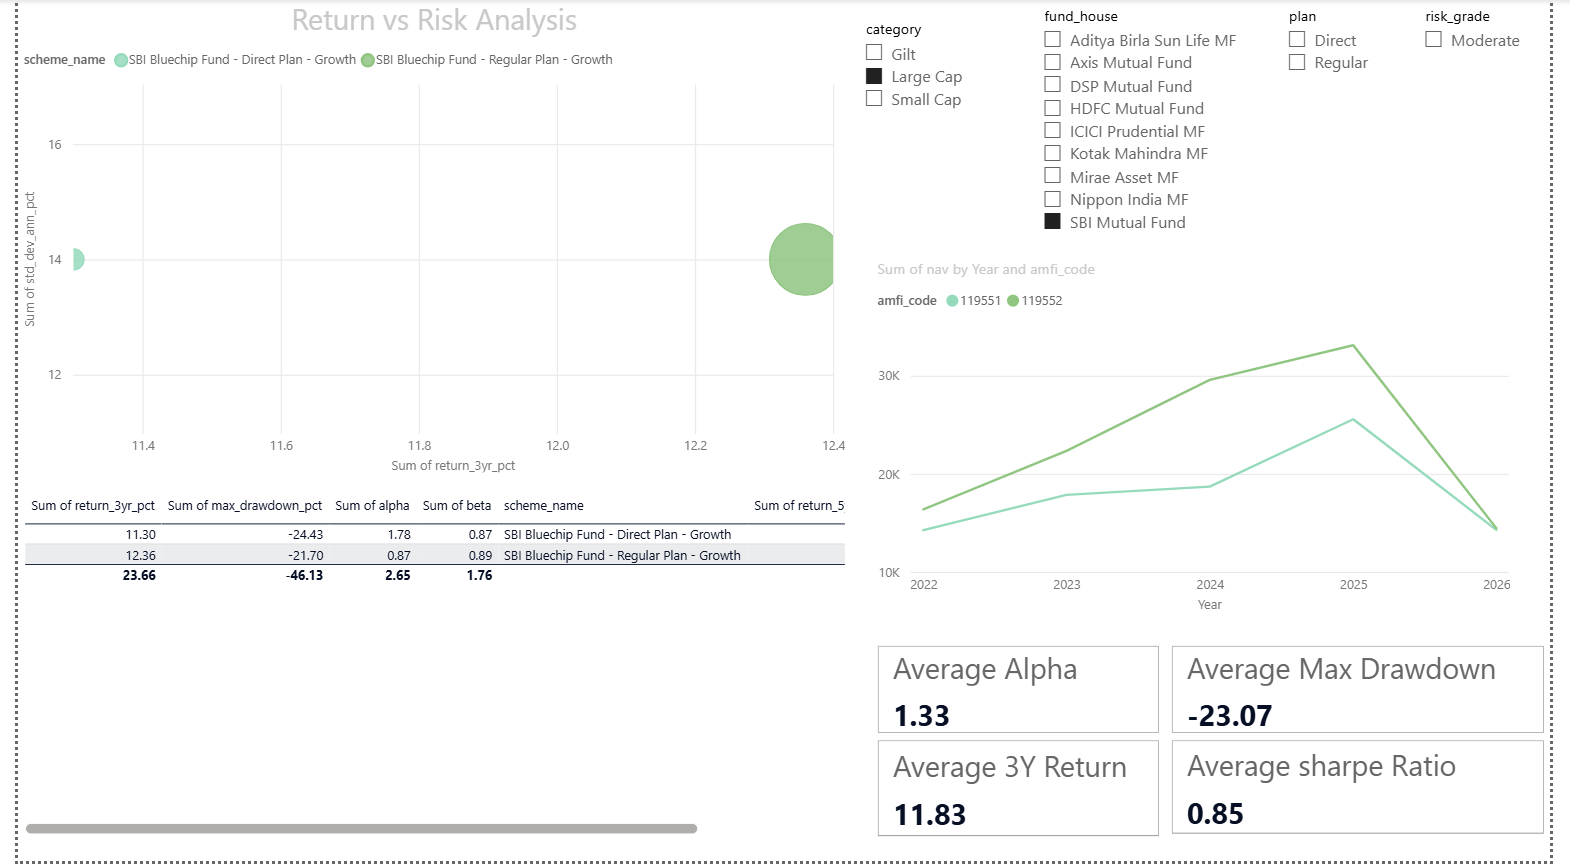

What the dashboard file says about the page in this screenshot:
{"tool":"powerbi","page":{"name":"Fund Performance","canvas":[1280,720],"ordinal":1},"visuals":[{"type":"scatterChart","title":"Return vs Risk Analysis","fields":{"X":["Sum(07_scheme_performance.return_3yr_pct)"],"Y":["Sum(07_scheme_performance.std_dev_ann_pct)"],"Size":["Sum(07_scheme_performance.aum_crore)"],"Series":["07_scheme_performance.scheme_name"]},"box":[0,0,695.4,400.6],"z":0},{"type":"tableEx","fields":{"Values":["Sum(07_scheme_performance.return_3yr_pct)","Sum(07_scheme_performance.max_drawdown_pct)","Sum(07_scheme_performance.alpha)","Sum(07_scheme_performance.beta)","07_scheme_performance.scheme_name","Sum(07_scheme_performance.return_5yr_pct)","Sum(07_scheme_performance.return_1yr_pct)"]},"box":[0,410.1,695.4,292.9],"z":1000},{"type":"slicer","fields":{"Values":["07_scheme_performance.category"]},"box":[695.4,11.3,139.8,119.1],"z":2000},{"type":"slicer","fields":{"Values":["07_scheme_performance.fund_house"]},"box":[844.7,0,204.1,217.3],"z":3000},{"type":"slicer","fields":{"Values":["07_scheme_performance.plan"]},"box":[1048.8,0,100.2,200.3],"z":4000},{"type":"slicer","fields":{"Values":["07_scheme_performance.risk_grade"]},"box":[1162.2,0,117.2,200.3],"z":5000},{"type":"lineChart","fields":{"Category":["02_nav_history.date.Variation.Date Hierarchy.Year","02_nav_history.date.Variation.Date Hierarchy.Quarter","02_nav_history.date.Variation.Date Hierarchy.Month","02_nav_history.date.Variation.Date Hierarchy.Day"],"Y":["Sum(02_nav_history.nav)"],"Series":["02_nav_history.amfi_code"]},"box":[712.4,217.3,538.6,300.5],"z":6000},{"type":"cardVisual","fields":{"Data":["Avg(07_scheme_performance.return_3yr_pct)"]},"box":[712.4,614.2,245.7,90.7],"z":7000},{"type":"cardVisual","fields":{"Data":["Avg(07_scheme_performance.sharpe_ratio)"]},"box":[958.1,614.2,321.3,88.8],"z":8000},{"type":"cardVisual","fields":{"Data":["Avg(07_scheme_performance.alpha)"]},"box":[712.4,534.8,245.7,83.2],"z":9000},{"type":"cardVisual","fields":{"Data":["Avg(07_scheme_performance.max_drawdown_pct)"]},"box":[958.1,534.8,321.3,83.2],"z":10000}]}

Visuals, with their boxes in screenshot pixels (x1, y1, x2, y2), scaled from the page's 1280x720 canvas onto the 1570x867 screenshot:
"Return vs Risk Analysis" scatterChart: [x1=0, y1=0, x2=853, y2=482]
tableEx - Sum(07_scheme_performance.return_3yr_pct) x Sum(07_scheme_performance.max_drawdown_pct): [x1=0, y1=494, x2=853, y2=847]
slicer - 07_scheme_performance.category: [x1=853, y1=14, x2=1024, y2=157]
slicer - 07_scheme_performance.fund_house: [x1=1036, y1=0, x2=1286, y2=262]
slicer - 07_scheme_performance.plan: [x1=1286, y1=0, x2=1409, y2=241]
slicer - 07_scheme_performance.risk_grade: [x1=1426, y1=0, x2=1569, y2=241]
lineChart - 02_nav_history.date.Variation.Date Hierarchy.Year x 02_nav_history.date.Variation.Date Hierarchy.Quarter: [x1=874, y1=262, x2=1534, y2=624]
cardVisual - Avg(07_scheme_performance.return_3yr_pct): [x1=874, y1=740, x2=1175, y2=849]
cardVisual - Avg(07_scheme_performance.sharpe_ratio): [x1=1175, y1=740, x2=1569, y2=847]
cardVisual - Avg(07_scheme_performance.alpha): [x1=874, y1=644, x2=1175, y2=744]
cardVisual - Avg(07_scheme_performance.max_drawdown_pct): [x1=1175, y1=644, x2=1569, y2=744]
